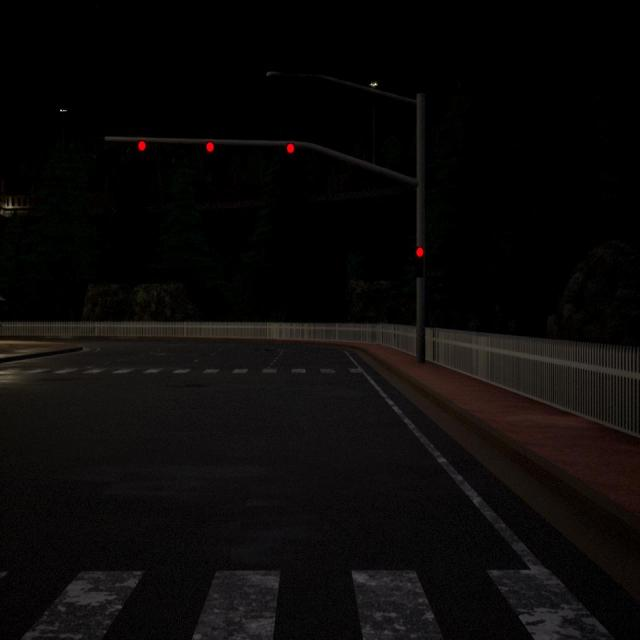traffic_light: (206, 140, 214, 155), (286, 142, 296, 154), (416, 246, 424, 259), (138, 140, 146, 152)
